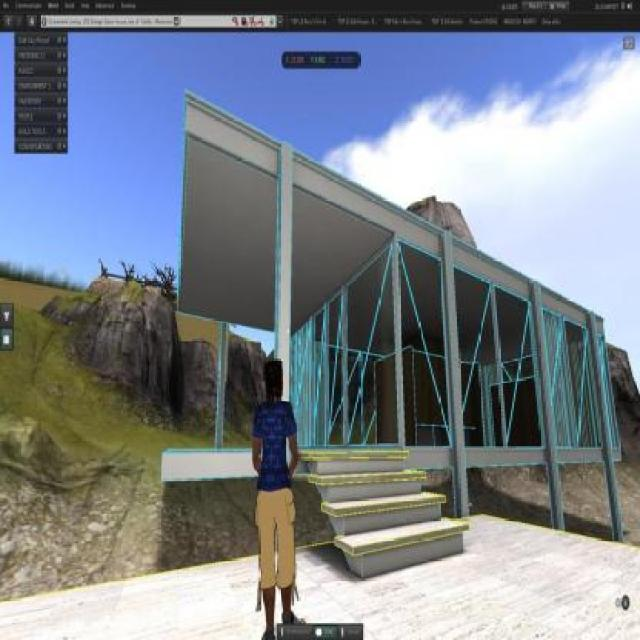stair: (298, 451, 470, 577)
